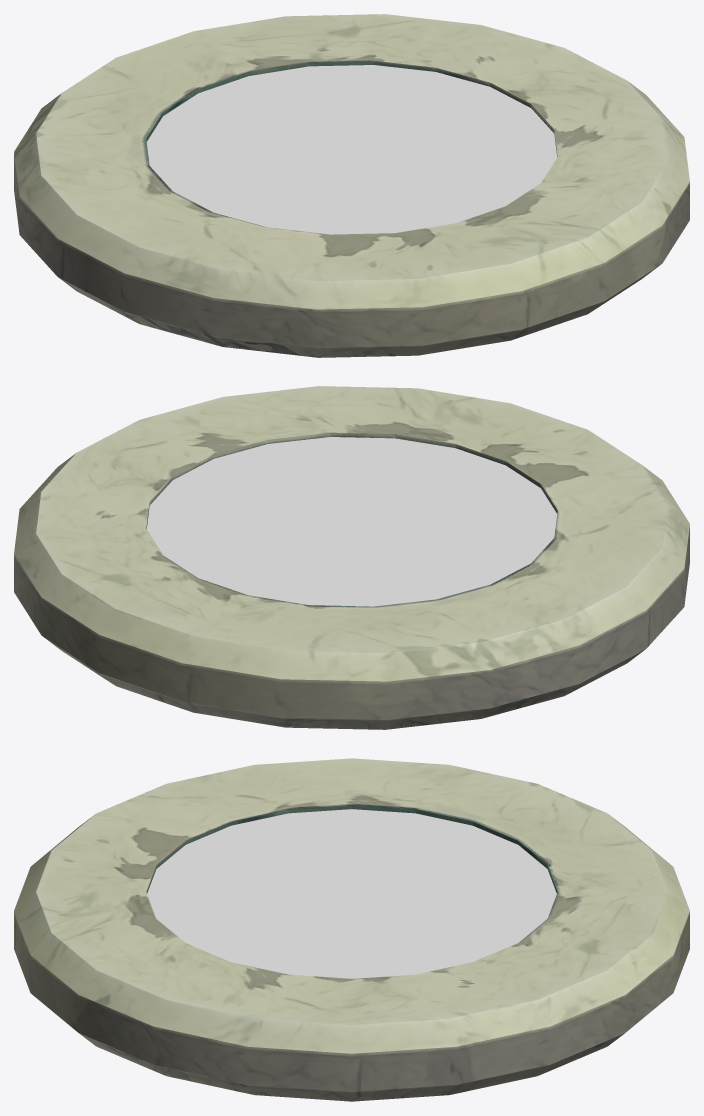
File: carcasa.fbx
3 views of the same model, one above another, from view 1: azimuth 30°, elevation 25°; view 2: azimuth 150°, elevation 25°; view 3: azimuth 270°, elevation 25° (orthographic).
Visible parts, largest first — view 1: pCylinder1, pCylinder2; view 2: pCylinder1, pCylinder2; view 3: pCylinder1, pCylinder2.
Part boxes in pixels (<box>): pCylinder1: <box>14,14,689,357</box>; pCylinder2: <box>146,65,557,234</box>; pCylinder1: <box>14,386,689,729</box>; pCylinder2: <box>146,437,557,606</box>; pCylinder1: <box>14,758,689,1101</box>; pCylinder2: <box>147,809,556,978</box>.
Size of the model in its own units: 2790 by 347 by 2790.
